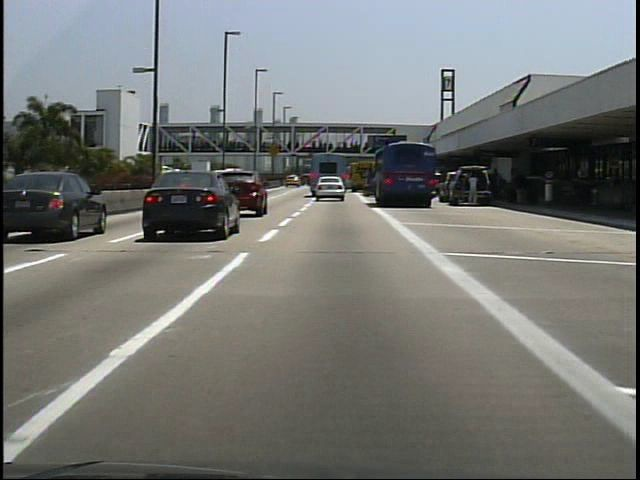person: (513, 169, 529, 211), (467, 170, 481, 209)
